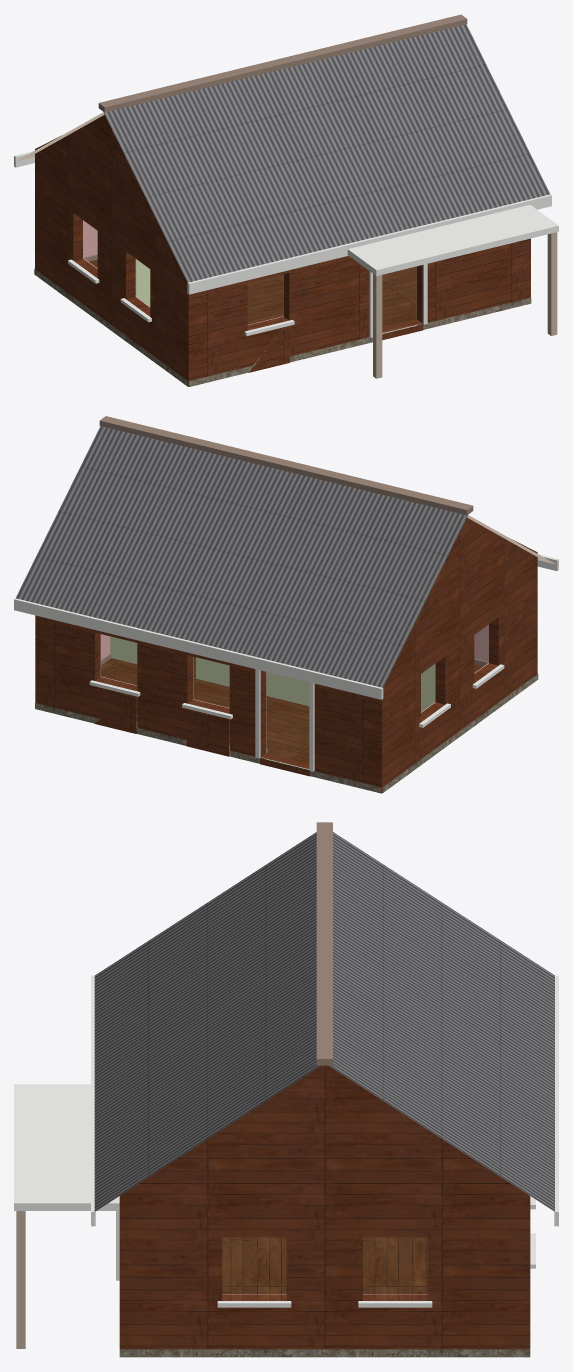
Rendered from cottage-wood.windows-v1.lod0.glb.
3 renders of one model, top to bottom at view 1: azimuth 30°, elevation 25°; view 2: azimuth 150°, elevation 25°; view 3: azimuth 270°, elevation 25°, orthographic. The views are drawn at different scales.
Visible parts, largest first — view 1: cottage-wood; view 2: cottage-wood; view 3: cottage-wood.
Boxes of the visible parts, x1,y1,x2,y2 form: cottage-wood: [14, 14, 558, 386]; cottage-wood: [14, 416, 558, 793]; cottage-wood: [14, 822, 558, 1357].
Size of the model in its own units: 9.54 by 5.74 by 9.29.
Materials: 4 (3 with a texture image).
